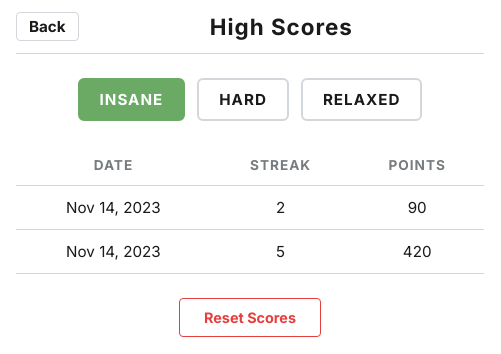
it: HighScoresPage › filters by mode when tab clicked
Step 1. Click the button "Hard" → (243, 100), box [197,78,289,121]
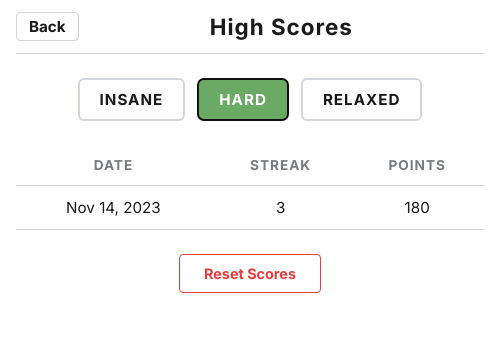
Expected: the text "180" is shown, [350,186,484,230]
Expected: the text "420" is gone
